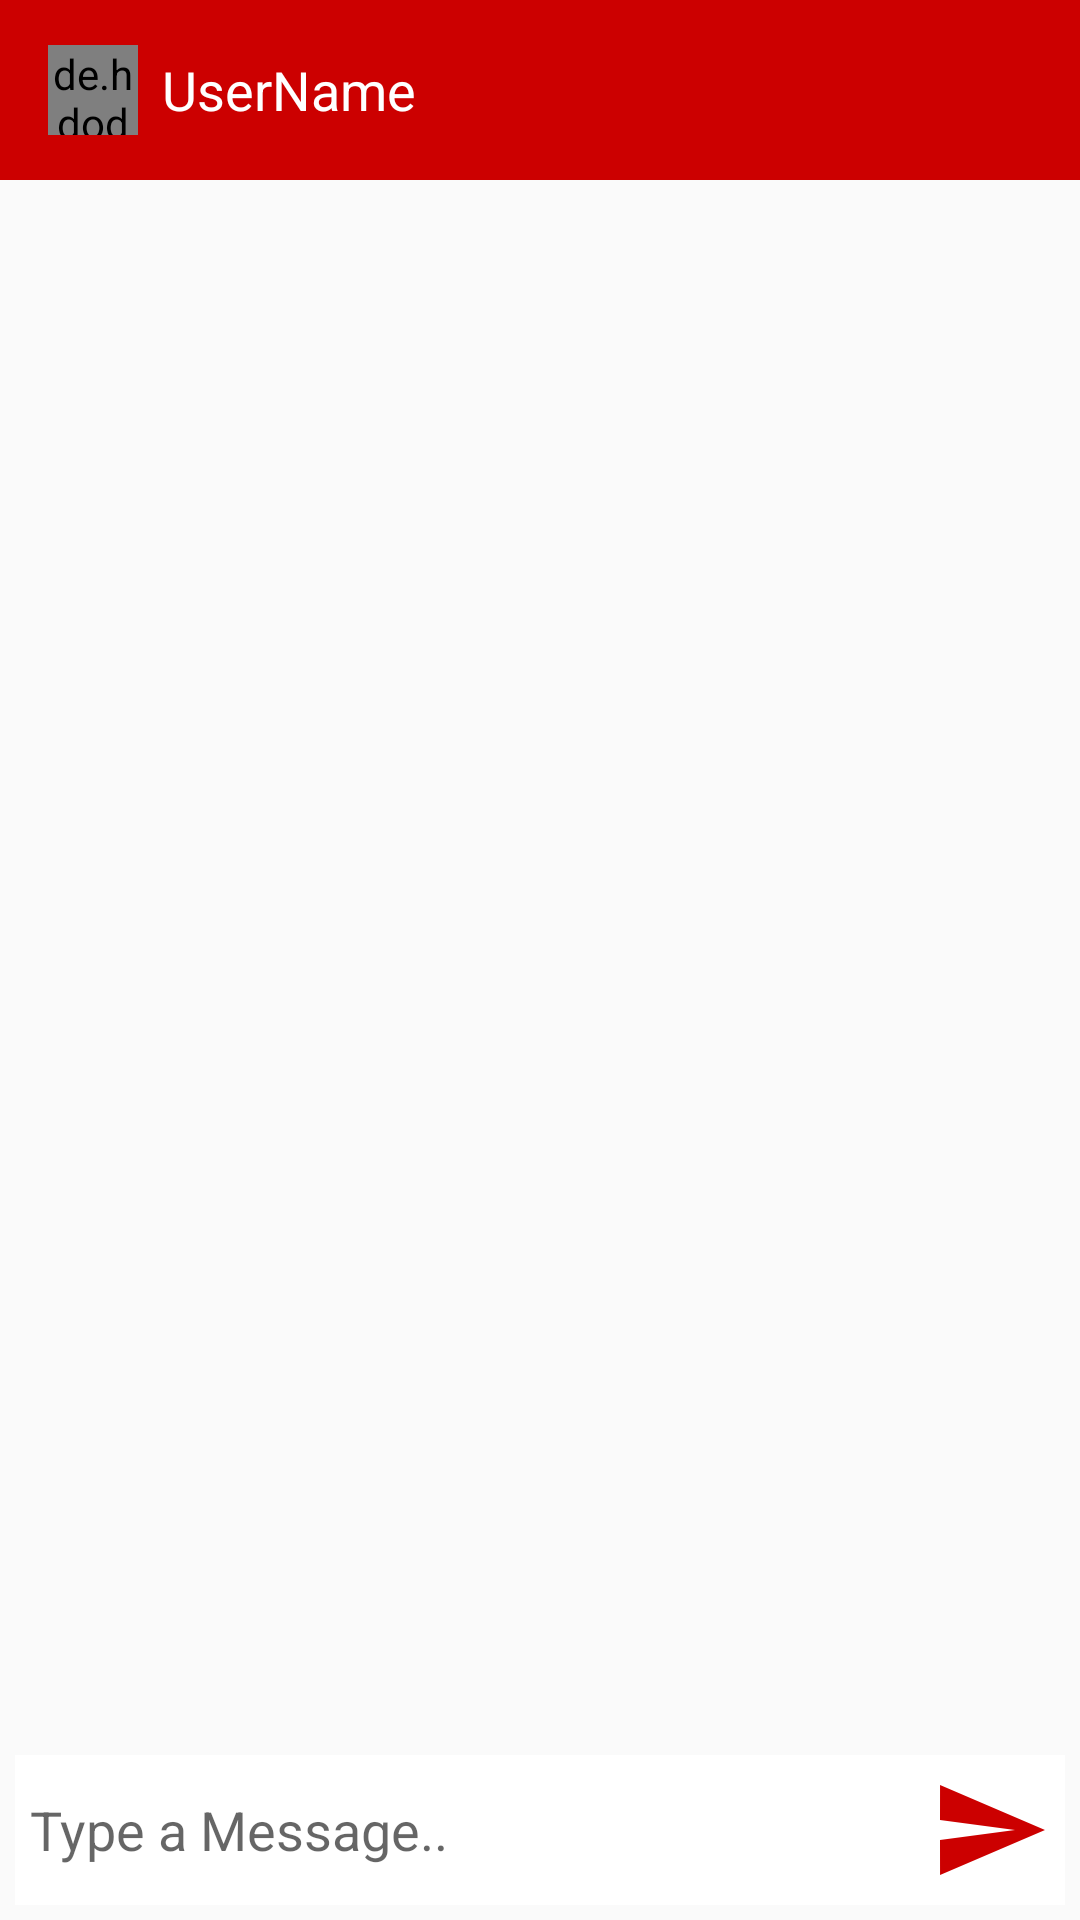

Icon bounding boxes for this 1080px x 1920px phone screenshot, format bbox(x1, y1, x2, y2):
send: bbox(940, 1785, 1045, 1875)
